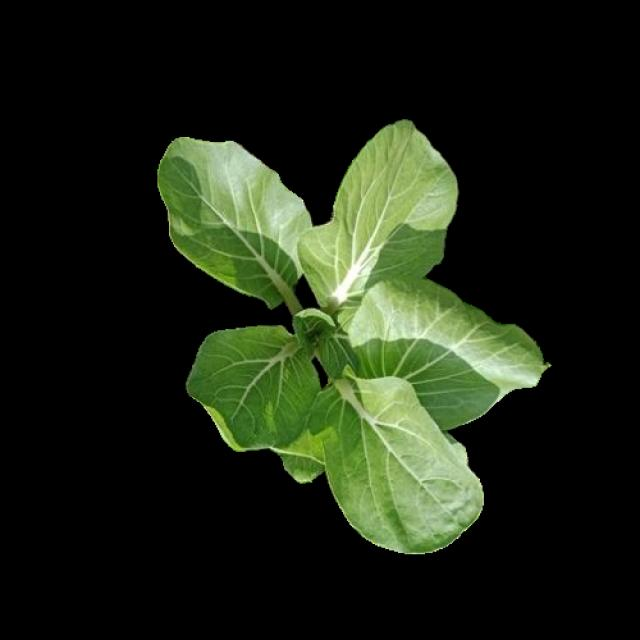healthy: (164, 147, 536, 547)
mature: (161, 123, 539, 549)
